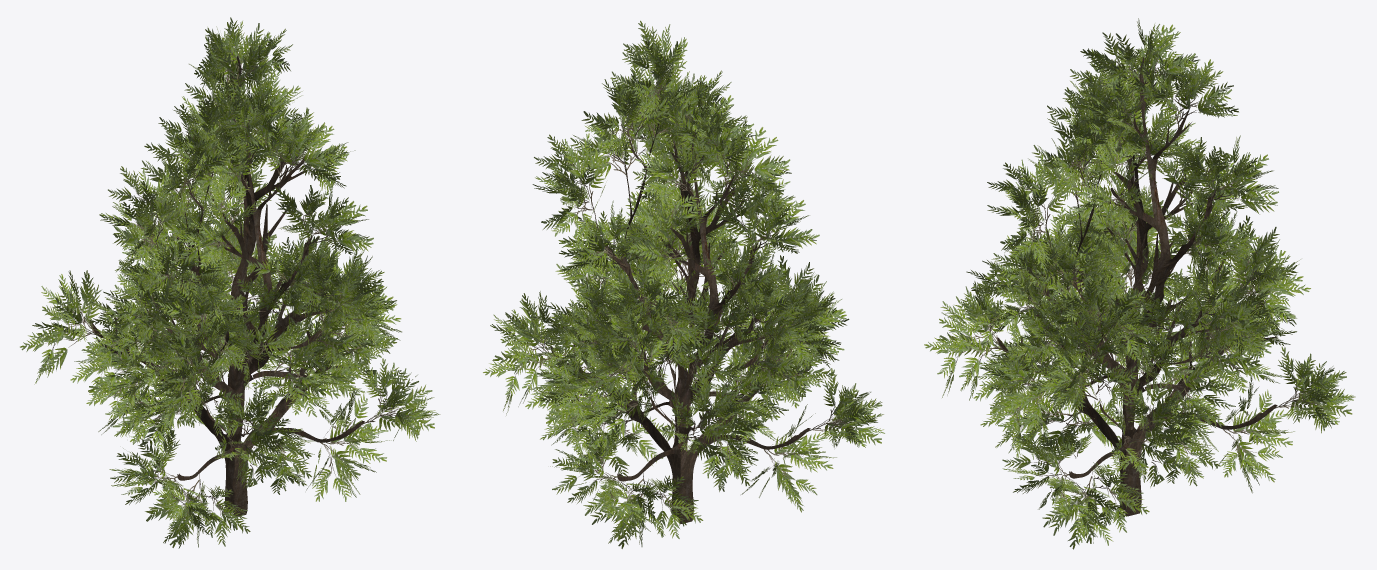
Rendered from tree-0-near.glb.
3 renders of one model, left to right at view 1: azimuth 30°, elevation 25°; view 2: azimuth 150°, elevation 25°; view 3: azimuth 270°, elevation 25°, orthographic. The views are drawn at different scales.
Parts seen in each view (by area): view 1: Object_5342.001, Object_5340.001; view 2: Object_5342.001, Object_5340.001; view 3: Object_5342.001, Object_5340.001.
Boxes of the visible parts, left/top/right/bottom form: Object_5342.001: left=20, top=17, right=440, bottom=548; Object_5340.001: left=90, top=55, right=364, bottom=515; Object_5342.001: left=483, top=20, right=884, bottom=548; Object_5340.001: left=550, top=90, right=810, bottom=523; Object_5342.001: left=924, top=18, right=1355, bottom=549; Object_5340.001: left=997, top=56, right=1277, bottom=516.
Bounding box in the file's own units: 5.77 × 7.96 × 6.37.
Materials: 2 (2 with a texture image).
